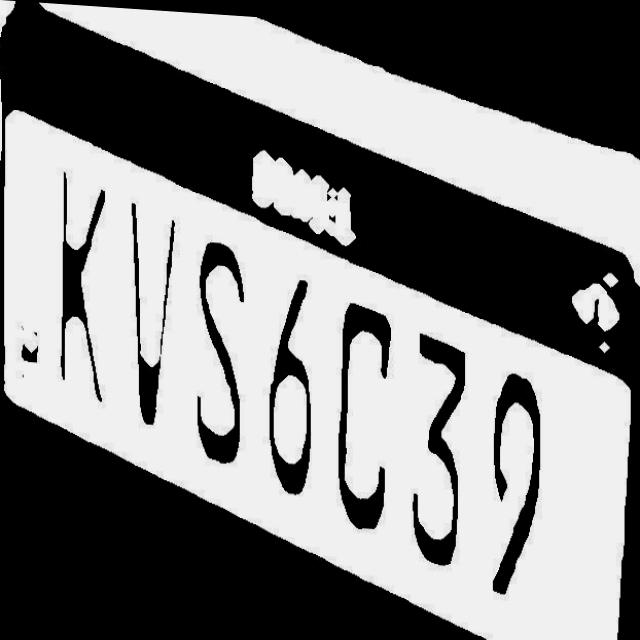3: (399, 310, 474, 588)
6: (270, 261, 329, 506)
9: (478, 348, 544, 598)
c: (326, 273, 402, 544)
k: (43, 153, 118, 418)
s: (185, 214, 258, 482)
v: (117, 181, 196, 441)
